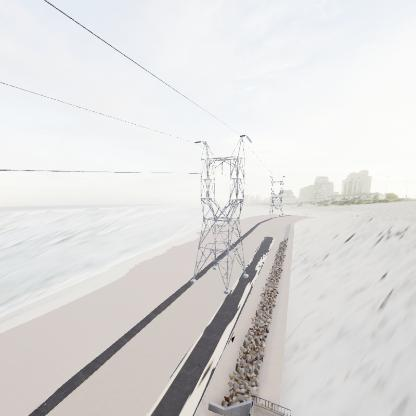tower: (185, 126, 256, 302)
